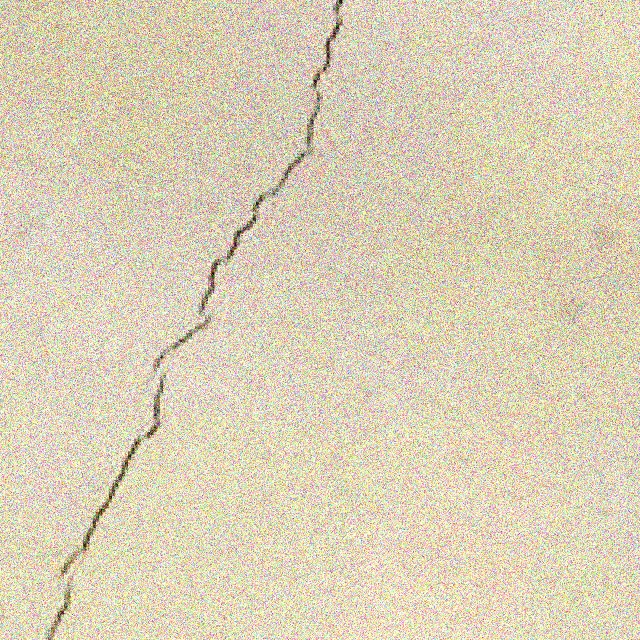SurfaceCrack: (30, 0, 358, 640)
